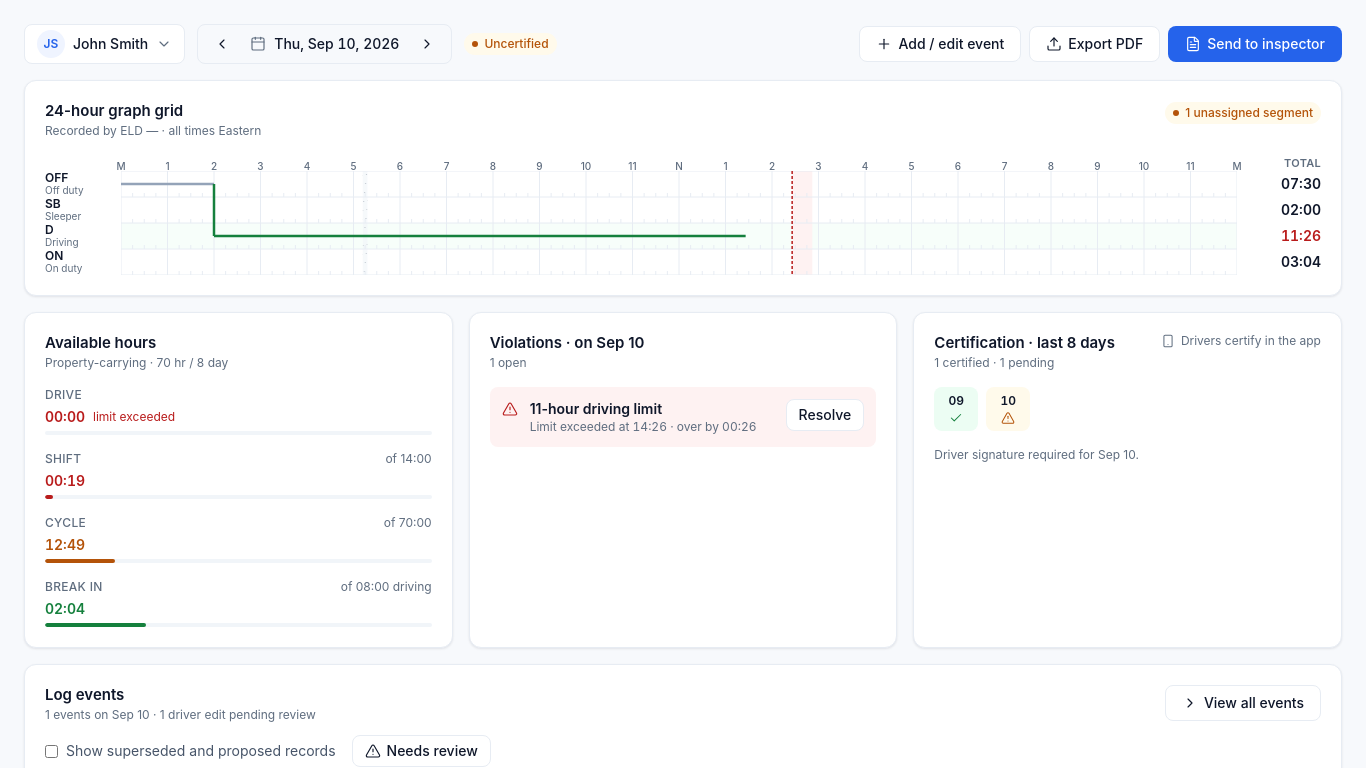
Test: 11.13 · Unassigned driving › opens the modal from the warning chip for hosEdit FULL and assigns with an annotation
Click the button "1 unassigned segment" at (1243, 112), box [1165,101,1321,124]
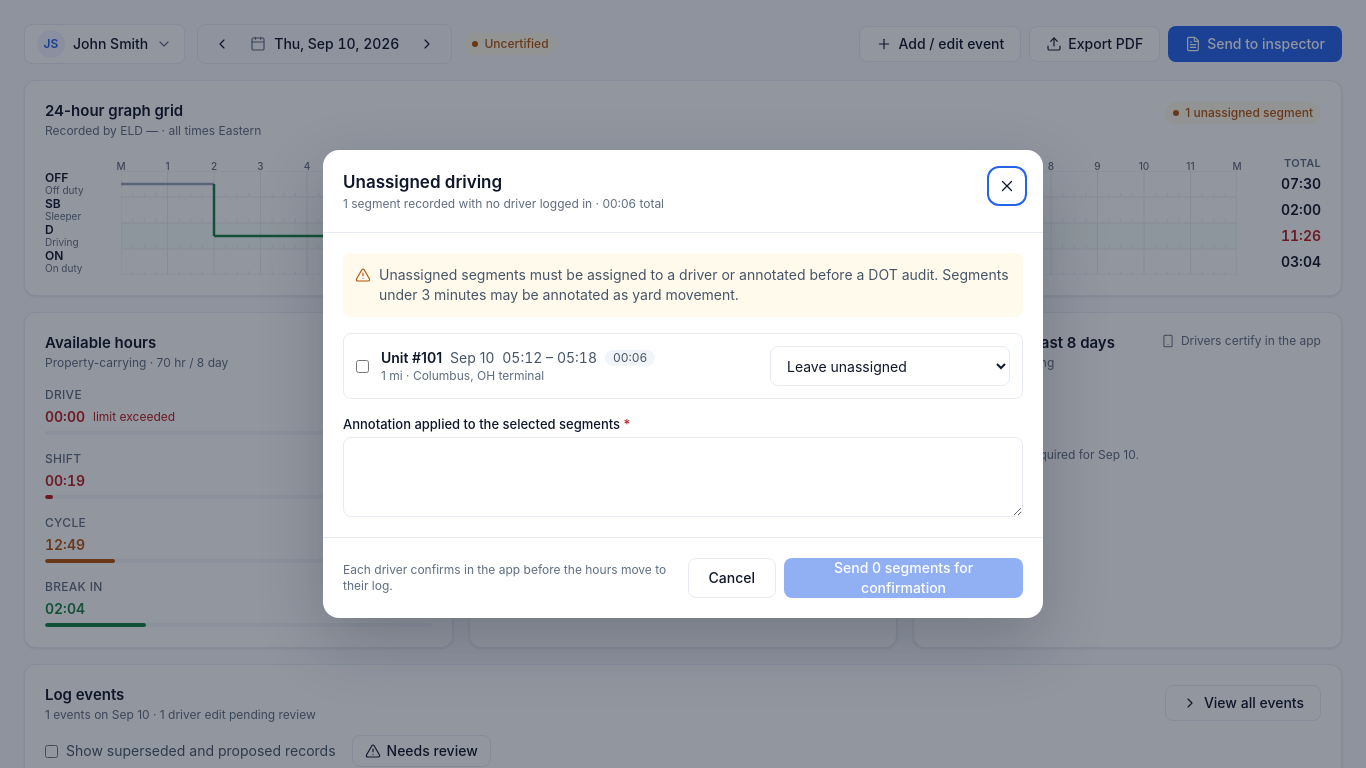
Now the text "Unassigned segments must be assigned to a driver or annotated" is shown, box [379,266,1009,303]
Click the checkbox named "Select Unit #101 segment" at (362, 366), box [356,360,369,372]
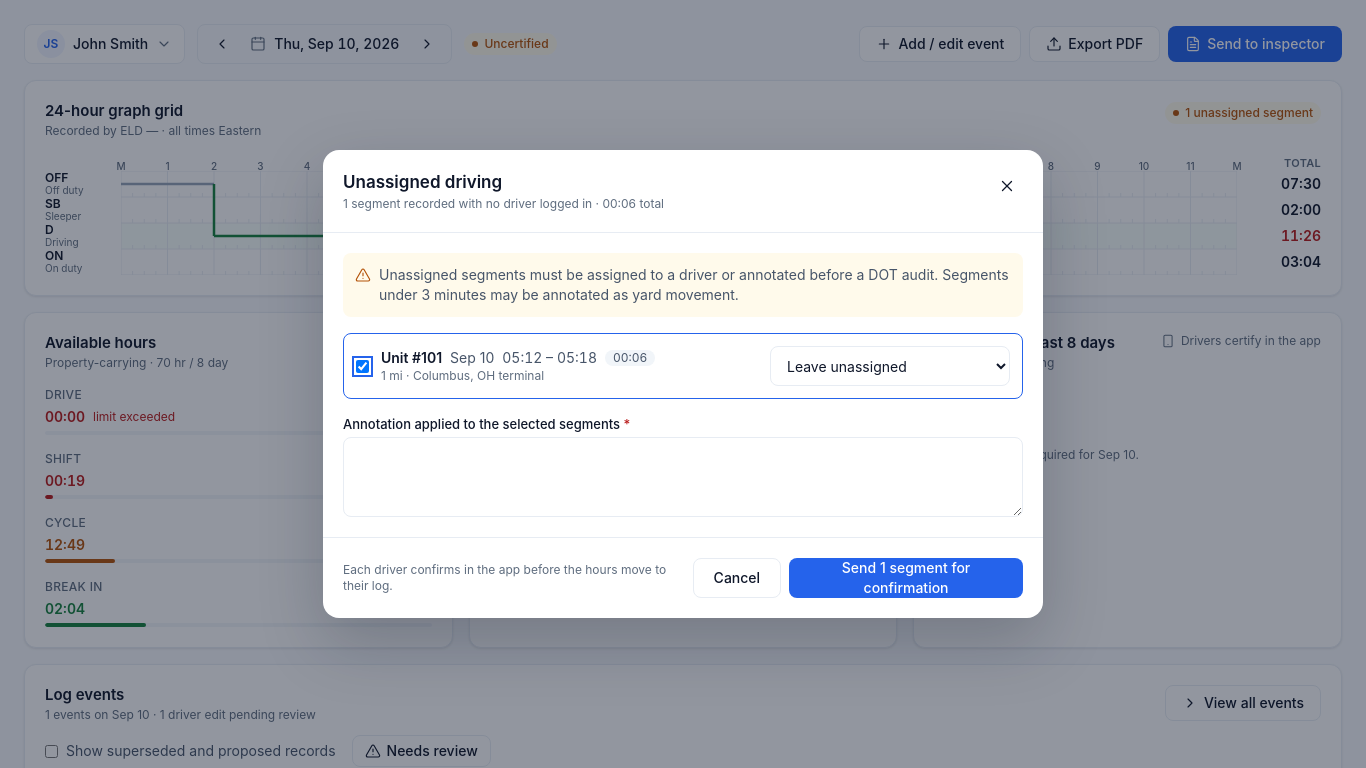
Select "John Smith" in the dropdown named "Resolution for Unit #101" at (890, 366), box [770,346,1010,386]
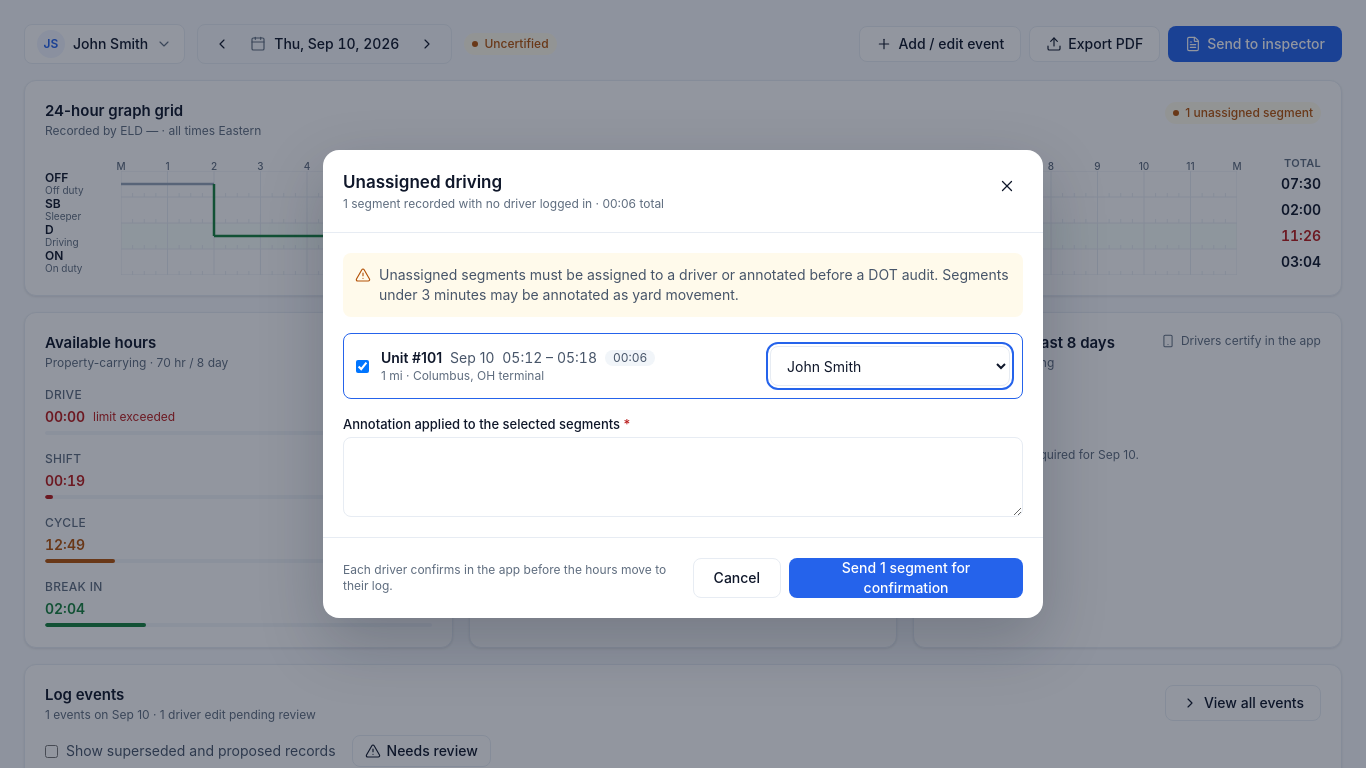
Type "Yard movement at the home terminal." into the text box at (683, 477), box [343,437,1023,517]
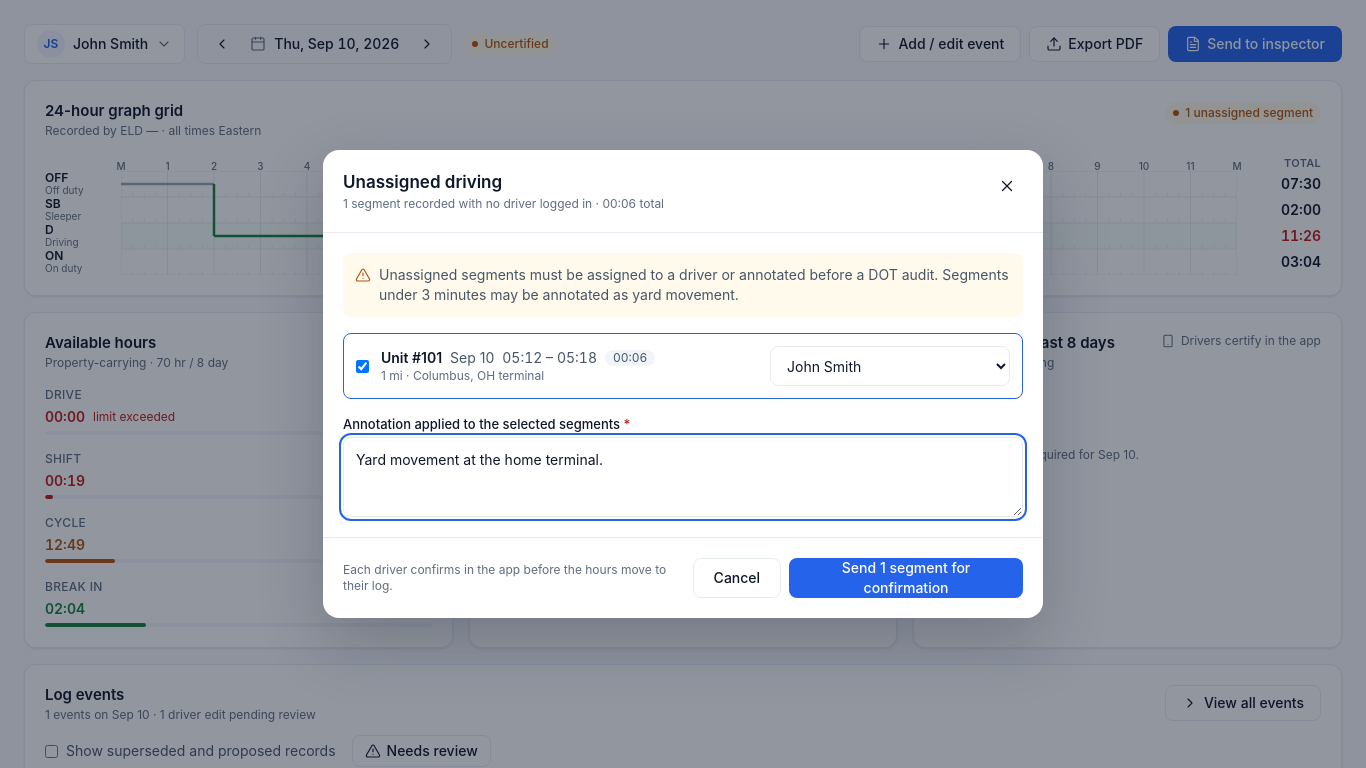
Click the button "Send 1 segment for confirmation" at (906, 578), box [789,558,1023,598]
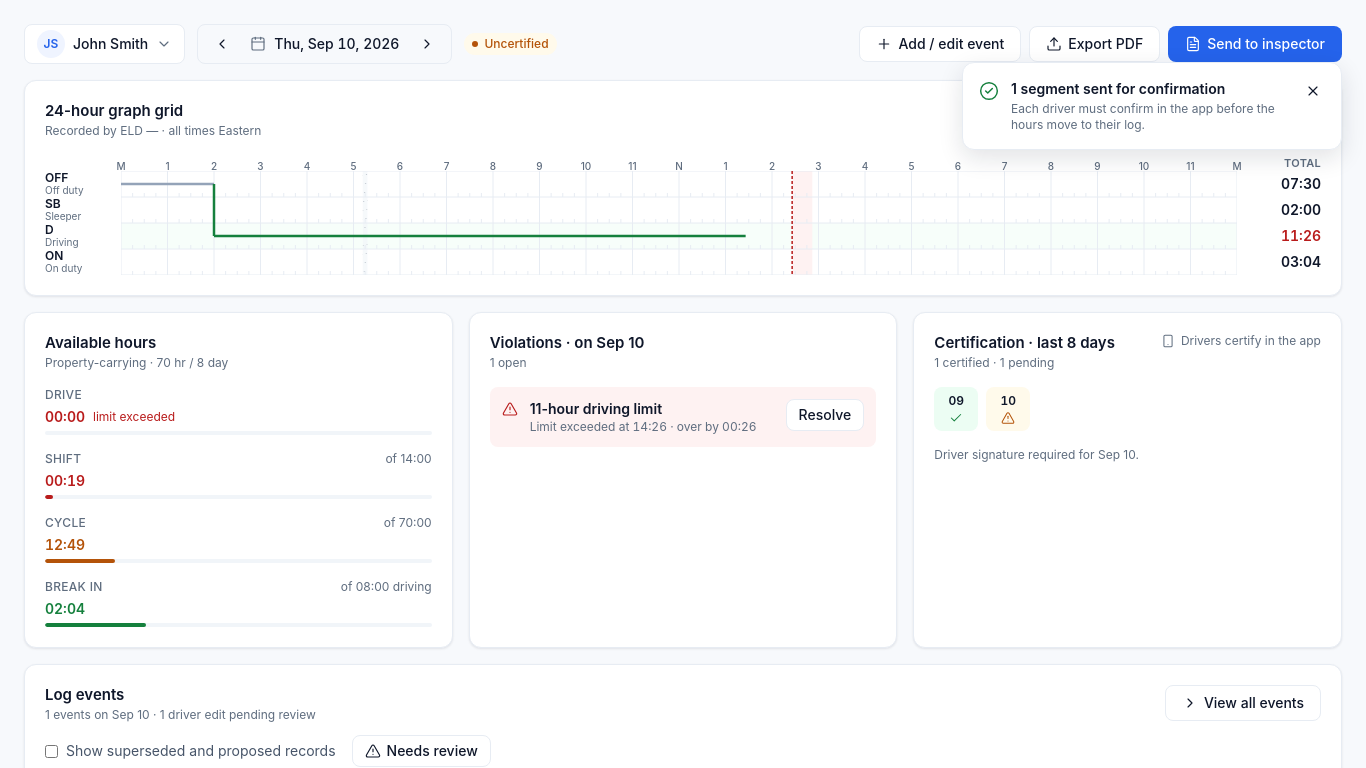
Now the text "1 segment sent for confirmation" is shown, box [1011,80,1225,97]
